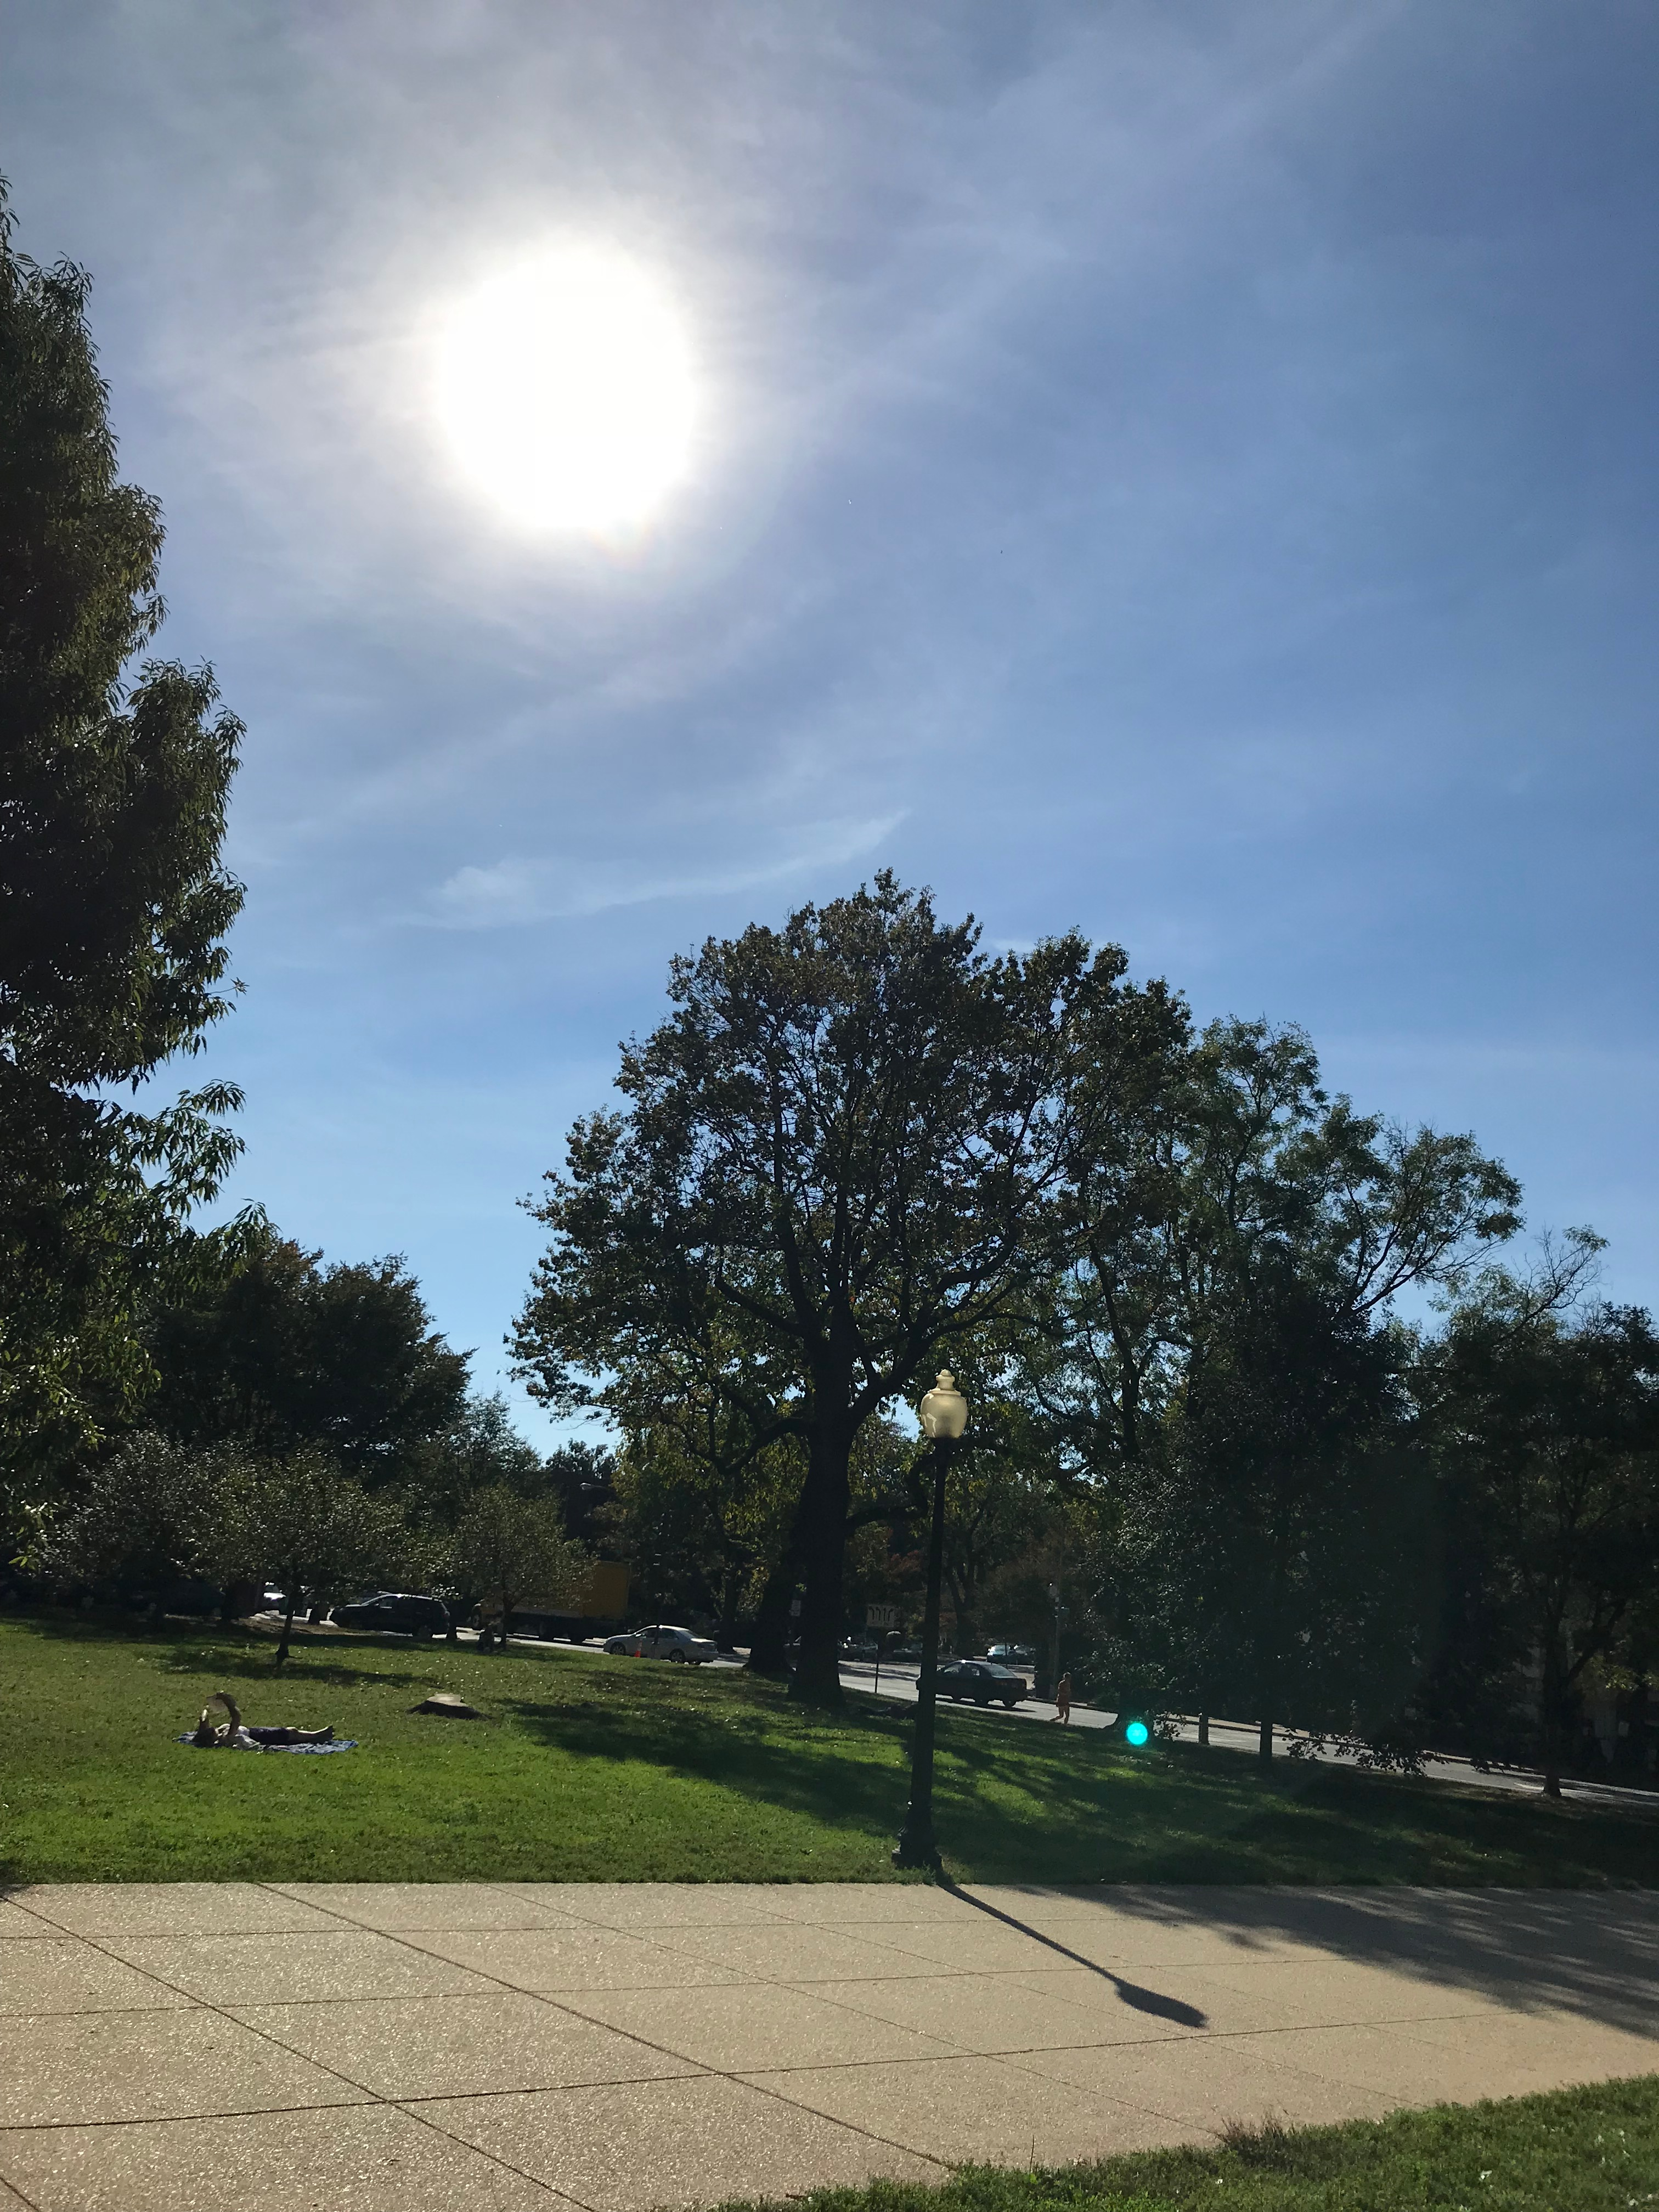flare: (1126, 1719, 1150, 1749)
